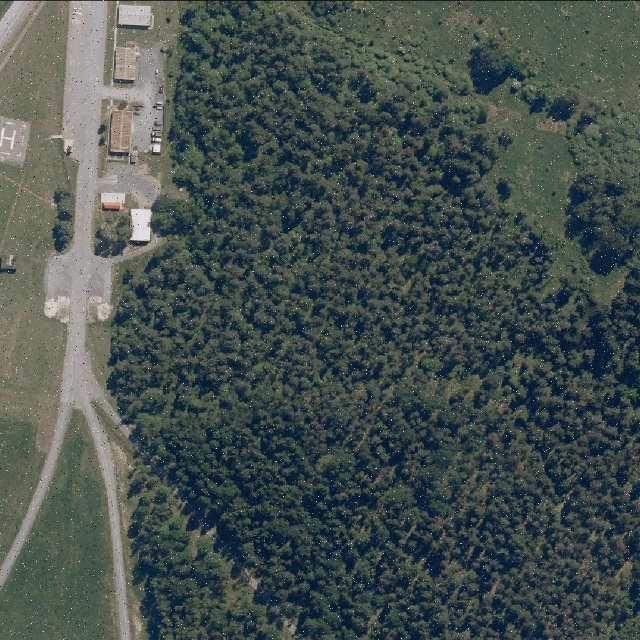vegetation: (110, 0, 640, 640), (469, 37, 640, 268), (124, 454, 298, 640)
